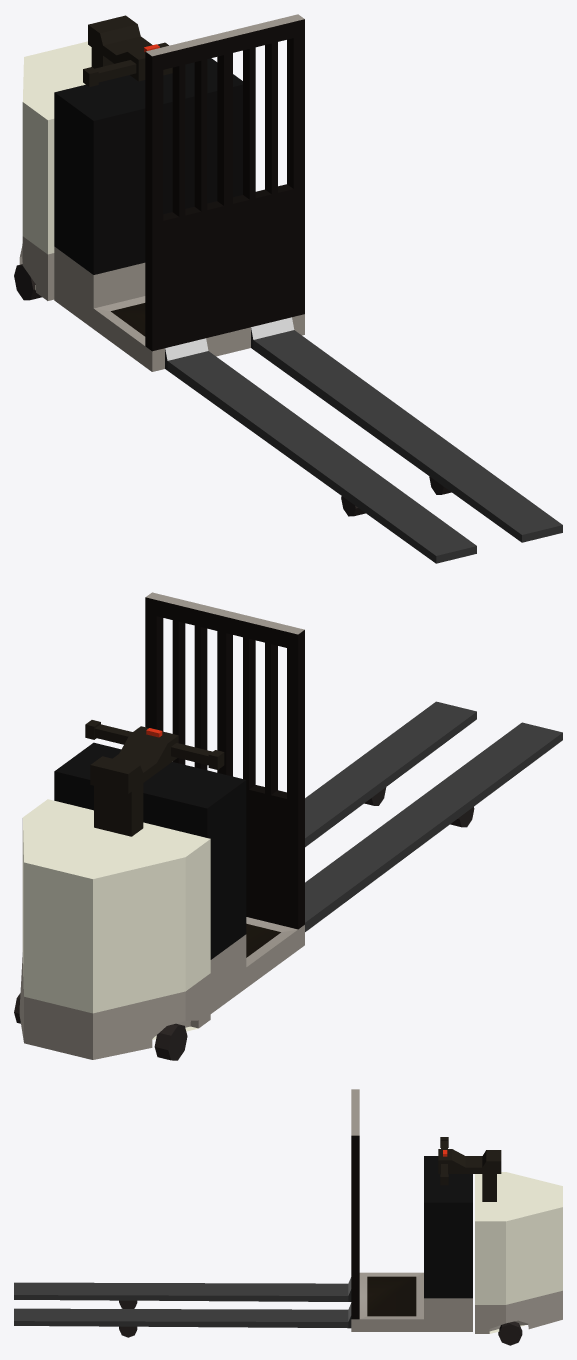
File: PltJack_MT.fbx
3 views of the same model, one above another, from view 1: azimuth 30°, elevation 25°; view 2: azimuth 150°, elevation 25°; view 3: azimuth 270°, elevation 25° (orthographic). The views are drawn at different scales.
Visible parts, largest first — view 1: PJ Chassis, Handle; view 2: PJ Chassis, Handle, Wheels.Front; view 3: PJ Chassis, Handle, Wheels.Front, Wheels.Rear.
Boxes of the visible parts, left/top/right/bottom form: PJ Chassis: left=19, top=14, right=562, bottom=563; Handle: left=83, top=15, right=172, bottom=86; PJ Chassis: left=19, top=592, right=562, bottom=1059; Handle: left=85, top=720, right=224, bottom=836; Wheels.Front: left=14, top=993, right=187, bottom=1060; PJ Chassis: left=14, top=1089, right=562, bottom=1333; Handle: left=438, top=1137, right=501, bottom=1201; Wheels.Front: left=498, top=1321, right=522, bottom=1345; Wheels.Rear: left=119, top=1300, right=137, bottom=1337.
Bounding box in the file's own units: 0.81 × 3.8 × 1.6.
